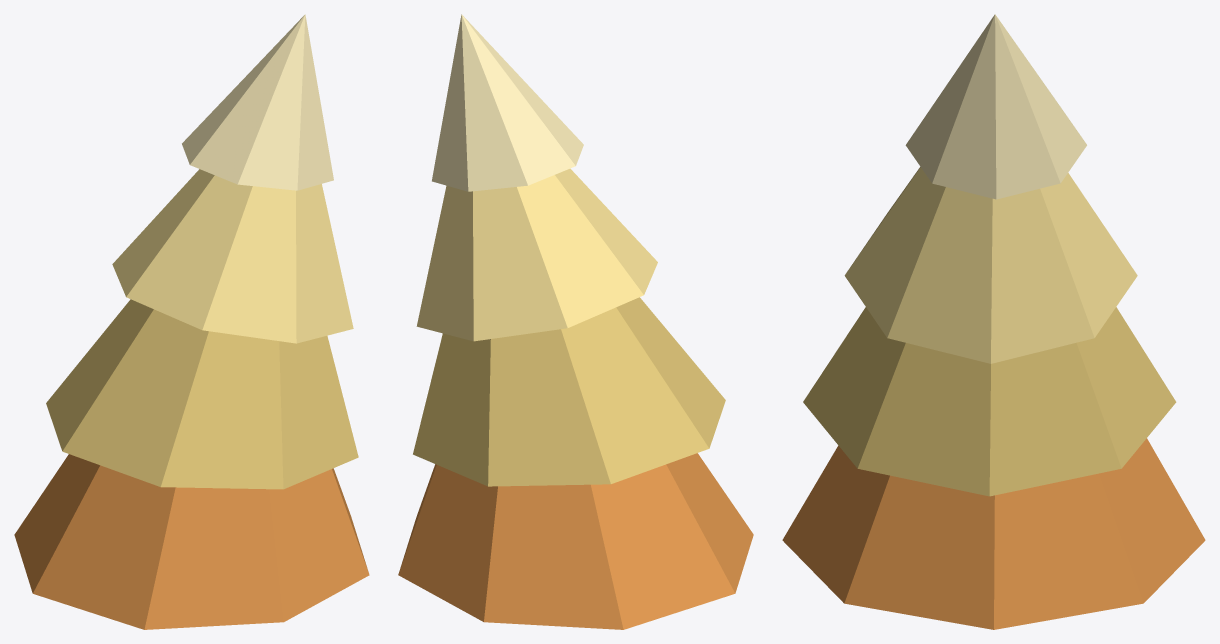
File: 01_01Tree_Orange.fbx
The picture shows the model from 3 angles, left to right: view 1: azimuth 30°, elevation 25°; view 2: azimuth 150°, elevation 25°; view 3: azimuth 270°, elevation 25°; orthographic projection. The views are drawn at different scales.
Parts seen in each view (by area): view 1: Cone.001; view 2: Cone.001; view 3: Cone.001.
Part boxes in pixels (x1,y1,x2,y2): Cone.001: [14, 14, 369, 629]; Cone.001: [398, 14, 753, 629]; Cone.001: [782, 14, 1205, 629].
Size of the model in its own units: 125 by 192 by 125.
